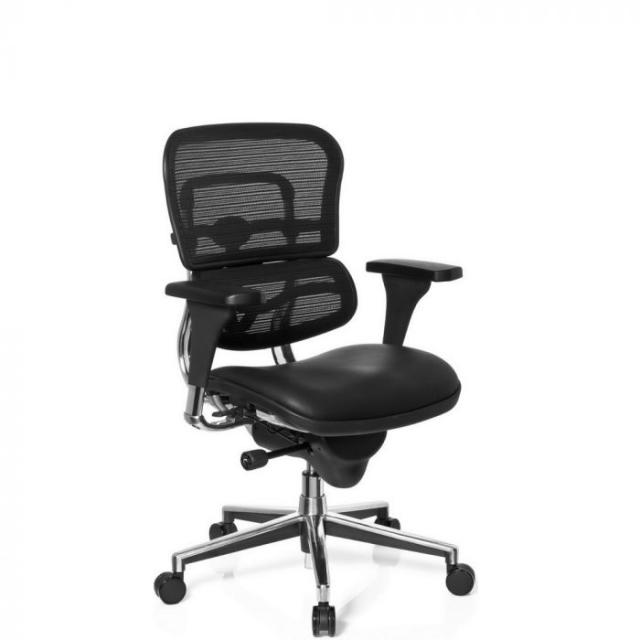chair: (153, 121, 476, 637)
